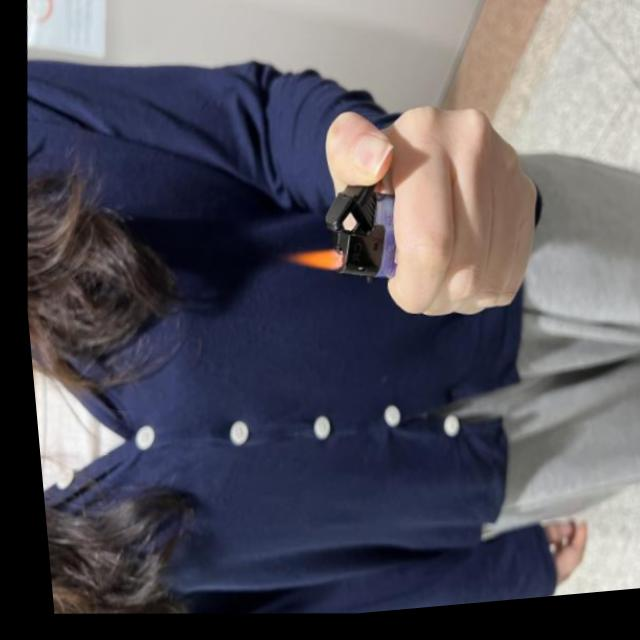Fire: (280, 245, 342, 284)
